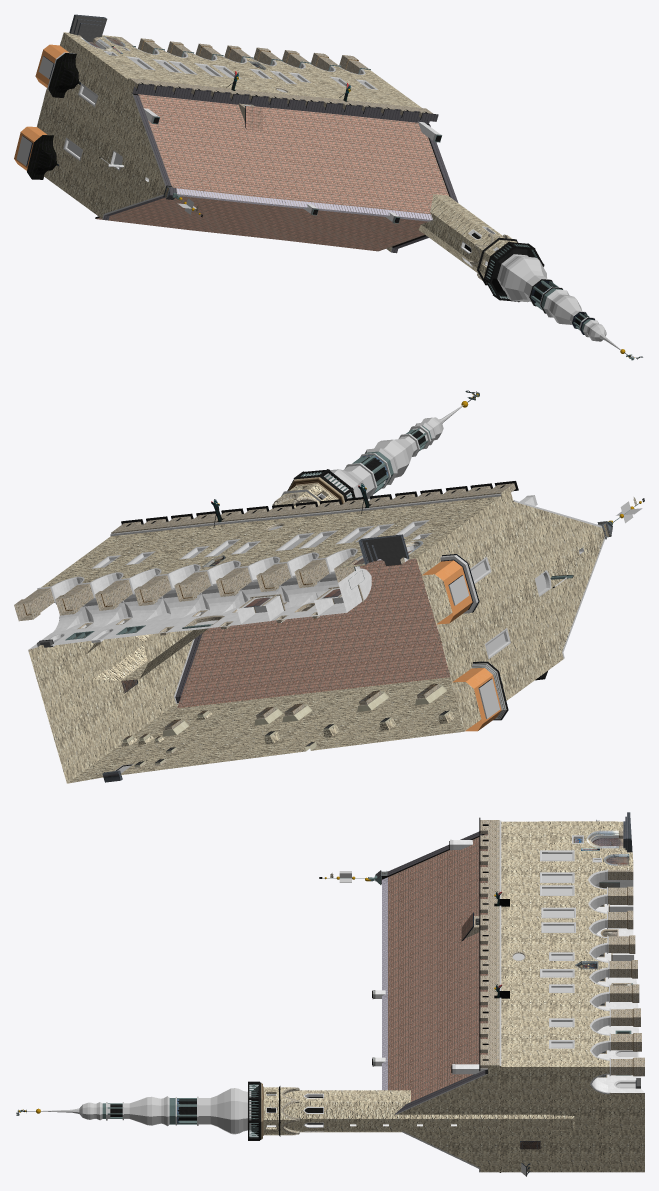
File: Raekoja_Plats_1.obj
The picture shows the model from 3 angles, top to bottom: view 1: azimuth 30°, elevation 25°; view 2: azimuth 150°, elevation 25°; view 3: azimuth 270°, elevation 25°; orthographic projection. The views are drawn at different scales.
Parts seen in each view (by area): view 1: Raekoja_Plats_1; view 2: Raekoja_Plats_1; view 3: Raekoja_Plats_1.
Part boxes in pixels (x1,y1,x2,y2): Raekoja_Plats_1: [14, 14, 642, 360]; Raekoja_Plats_1: [14, 390, 644, 783]; Raekoja_Plats_1: [16, 812, 644, 1176].
Bounding box in the file's own units: 41.32 × 27.68 × 64.56.
